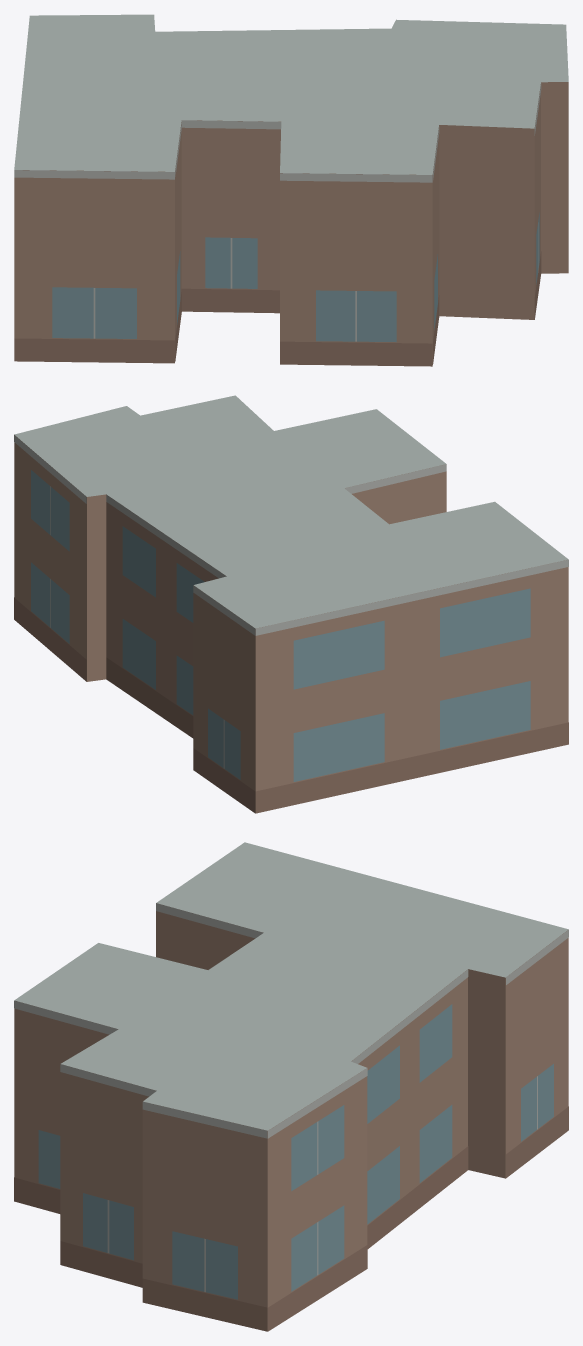
File: survey-upis-32512886.glb
The picture shows the model from 3 angles, top to bottom: view 1: azimuth 30°, elevation 25°; view 2: azimuth 150°, elevation 25°; view 3: azimuth 270°, elevation 25°; orthographic projection. The views are drawn at different scales.
Parts seen in each view (by area): view 1: survey-upis-32512886.tmp; view 2: survey-upis-32512886.tmp; view 3: survey-upis-32512886.tmp.
Part boxes in pixels (x1,y1,x2,y2): survey-upis-32512886.tmp: (14, 14, 568, 366); survey-upis-32512886.tmp: (14, 395, 568, 813); survey-upis-32512886.tmp: (14, 842, 568, 1331).
Bounding box in the file's own units: 18.79 × 6.1 × 15.27.
